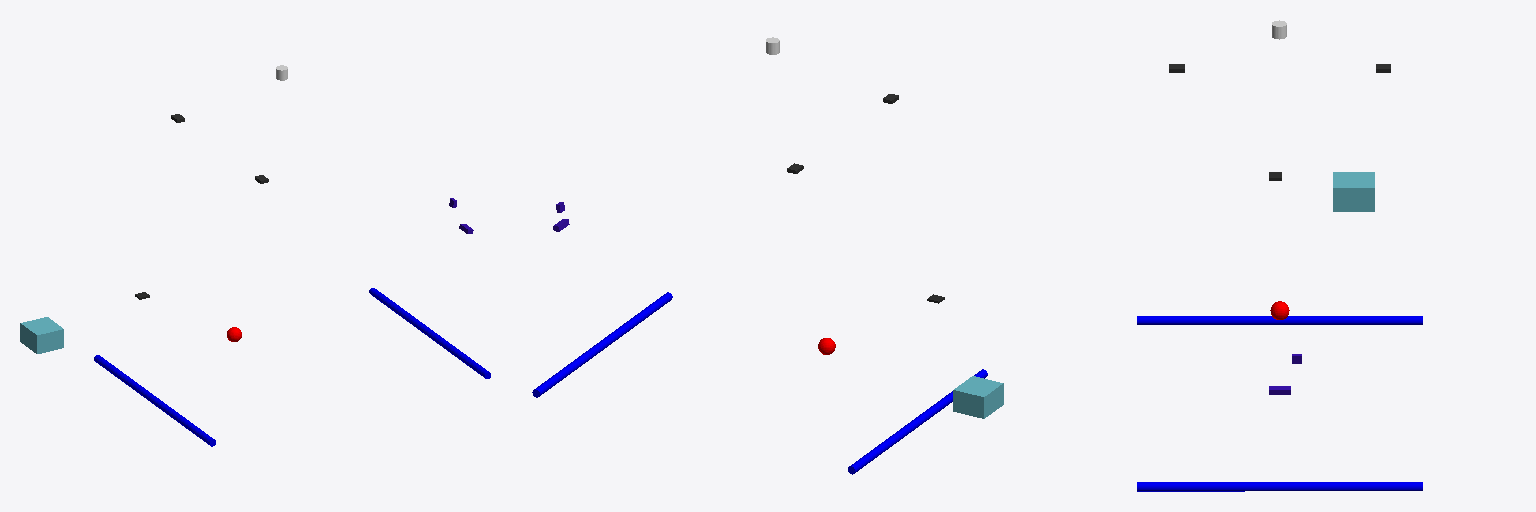
The robot description file, URDF, robot "olav":
<!--=========================================\
|            _  _   _ _      ___   __        |
|           /_\| | | | |    /_\ \ / /        |
|          / _ \ |_| | |__ / _ \ V /         |
|         /_/ \_\___/|____/_/ \_\_/          |
|                                            |
|  OLAV: Off-road light autonomous vehicle  |
\==========================================-->

<robot name="olav">
    <!-- REFERENCES -->
    <!-- BASE -->
    <link name="base_link" />
    <!-- FOOTPRINT -->
    <link name="base_footprint" />
    <!-- "BASE_LINK" TO "CHASSIS_LINK" -->
    <joint name="link_to_footprint_fixed" type="fixed">
        <parent link="base_link" />
        <child link="base_footprint" />
        <origin xyz="+0.00 +0.00 -0.97" rpy="+0.0 +0.0 +0.0" />
    </joint>

    <!-- CHASSIS -->
    <link name="chassis_link">
        <visual>
            <origin xyz="-1.065 +0.000 +0.075" rpy="+0.0 +0.0 +0.0" />
            <geometry>
                <mesh filename="package://olav_description/urdf/meshes/olav_chassis.dae"
                    scale="0.01 0.01 0.01" />
            </geometry>
        </visual>
    </link>
    <!-- "BASE_LINK" TO "CHASSIS_LINK" -->
    <joint name="base_to_chassis_fixed" type="fixed">
        <parent link="base_link" />
        <child link="chassis_link" />
        <origin xyz="+2.1662 +0.0216 -0.7833" rpy="+0.0 +0.0 +0.0" />
    </joint>
    <!-- COG -->
    <link name="cog_link">
        <visual>
            <origin xyz="+0.0 +0.0 +0.0" rpy="+0.0 +0.0 +0.0" />
            <geometry>
                <sphere radius="0.05" />
            </geometry>
            <material name="cog-red">
                <color rgba="1.0 0.0 0.0 1.0" />
            </material>
        </visual>
    </link>
    <!-- "CHASSIS_LINK" TO "COG_LINK" -->
    <joint name="chassis_to_cog_fixed" type="fixed">
        <parent link="chassis_link" />
        <child link="cog_link" />
        <origin xyz="-1.4662 -0.0000 0.3333" rpy="+0.0 +0.0 +0.0" />
    </joint>
    <!-- VEHICLE -->
    <!-- FRONT AXLE -->
    <link name="front_axle_link">
        <visual>
            <origin xyz="+0.0 +0.0 +0.0" rpy="+1.571 +0.000 +0.000" />
            <geometry>
                <cylinder length="1.5" radius="0.025" />
            </geometry>
            <material name="blue">
                <color rgba="0.0 0.0 1.0 1.0" />
            </material>
        </visual>
    </link>
    <!-- "CHASSIS_LINK" TO "FRONT_AXLE_LINK" -->
    <joint name="chassis_to_front_axle_fixed" type="fixed">
        <parent link="chassis_link" />
        <child link="front_axle_link" />
        <origin xyz="+0.0 +0.0 +0.0" rpy="+0.0 +0.0 0.0" />
    </joint>
    <!-- FRONT LEFT WHEEL -->
    <link name="front_left_wheel_link">
        <visual>
            <geometry>
                <mesh filename="package://olav_description/urdf/meshes/olav_wheel_left.dae"
                    scale="0.01 0.01 0.01" />
            </geometry>
        </visual>
    </link>
    <!-- FRONT RIGHT WHEEL -->
    <link name="front_right_wheel_link">
        <!--
        <visual>
            <geometry>
                <mesh filename="package://olav_description/urdf/meshes/olav_wheel_right.dae"
                    scale="0.01 0.01 0.01" />
            </geometry>
        </visual>
        -->
    </link>
    <!-- "FRONT_AXLE_LINK" TO "FRONT_LEFT_WHEEL_LINK" -->
    <joint name="front_axle_to_front_left_wheel_revolute" type="revolute">
        <parent link="front_axle_link" />
        <child link="front_left_wheel_link" />
        <origin xyz="0.0000 +0.6320 -0.0000" rpy="+0.0 +0.0 0.0" />
        <axis xyz="0.0 0.0 1.0" />
        <limit effort="1.0" velocity="+1.0" lower="-0.602" upper="+0.602" />
    </joint>
    <!-- "FRONT_AXLE_LINK" TO "FRONT_RIGHT_WHEEL_LINK" -->
    <joint name="front_axle_to_front_right_wheel_revolute" type="revolute">
        <parent link="front_axle_link" />
        <child link="front_right_wheel_link" />
        <origin xyz="+0.0000 -0.6320 0.0000" rpy="+0.0 +0.0 0.0" />
        <axis xyz="0.0 0.0 1.0" />
        <limit effort="1.0" velocity="+1.0" lower="-0.602" upper="+0.602" />
    </joint>
    <!-- REAR AXLE -->
    <link name="rear_axle_link">
        <visual>
            <origin xyz="+0.0 +0.0 +0.0" rpy="+1.571 +0.000 +0.000" />
            <geometry>
                <cylinder length="1.5" radius="0.025" />
            </geometry>
            <material name="blue">
                <color rgba="0.0 0.0 1.0 1.0" />
            </material>
        </visual>
    </link>
    <!-- "CHASSIS_LINK" TO "REAR_AXLE_LINK" -->
    <joint name="chassis_to_rear_axle_fixed" type="fixed">
        <parent link="chassis_link" />
        <child link="rear_axle_link" />
        <origin xyz="-2.06 +0.00 +0.00" rpy="+0.0 +0.0 +0.0" />
    </joint>
    <!-- REAR LEFT WHEEL -->
    <link name="rear_left_wheel_link">
        <visual>
            <geometry>
                <mesh filename="package://olav_description/urdf/meshes/olav_wheel_left.dae"
                    scale="0.01 0.01 0.01" />
            </geometry>
        </visual>
    </link>
    <!-- REAR RIGHT WHEEL -->
    <link name="rear_right_wheel_link">
        <visual>
            <geometry>
                <mesh filename="package://olav_description/urdf/meshes/olav_wheel_right.dae"
                    scale="0.01 0.01 0.01" />
            </geometry>
        </visual>
    </link>
    <!-- "REAR_AXLE_LINK" TO "REAR_LEFT_WHEEL_LINK" -->
    <joint name="rear_axle_to_wheel_rear_left_fixed" type="fixed">
        <parent link="rear_axle_link" />
        <child link="rear_left_wheel_link" />
        <origin xyz="0.0000 +0.6320 -0.0000" rpy="+0.0 +0.0 0.0" />
    </joint>
    <!-- "REAR_AXLE_LINK" TO "REAR_RIGHT_WHEEL_LINK" -->
    <joint name="rear_axle_to_wheel_rear_right_fixed" type="fixed">
        <parent link="rear_axle_link" />
        <child link="rear_right_wheel_link" />
        <origin xyz="+0.0000 -0.6320 0.0000" rpy="+0.0 +0.0 0.0" />
    </joint>
    <!-- SENSORS -->
    <!-- LORD MICROSTRAIN GQ7 -->
    <link name="gnss_ins_link">
        <visual>
            <origin xyz="+0.0 +0.0 +0.0" rpy="+0.0 +0.0 +0.0" />
            <geometry>
                <box size="0.0760 0.0686 0.0133" />
            </geometry>
            <material name="microstrain-grey">
                <color rgba="0.204 0.204 0.204 1.000" />
            </material>
        </visual>
    </link>
    <!-- UBLOX ANN-MB ANTENNA #1 -->
    <link name="gnss_ins_antenna_1_link">
        <visual>
            <origin xyz="+0.0 +0.0 +0.0" rpy="+0.0 +0.0 +0.0" />
            <geometry>
                <box size="0.0600 0.0820 0.0225" />
            </geometry>
            <material name="ublox-grey">
                <color rgba="0.216 0.216 0.216 1.000" />
            </material>
        </visual>
    </link>
    <!-- UBLOX ANN-MB ANTENNA #2 -->
    <link name="gnss_ins_antenna_2_link">
        <visual>
            <origin xyz="+0.0 +0.0 +0.0" rpy="+0.0 +0.0 +0.0" />
            <geometry>
                <box size="0.0600 0.0820 0.0225" />
            </geometry>
            <material name="ublox-grey">
                <color rgba="0.216 0.216 0.216 1.000" />
            </material>
        </visual>
    </link>
    <!-- "BASE_LINK" TO "GNSS_INS_LINK" -->
    <joint name="base_to_gnss_ins_fixed" type="fixed">
        <parent link="base_link" />
        <child link="gnss_ins_link" />
        <origin xyz="+0.0 +0.0 +0.0" rpy="+0.0 +0.0 +0.0" />
    </joint>
    <!-- "GNSS_INS_LINK" TO "GNSS_INS_ANTENNA_1_LINK" -->
    <joint name="gnss_ins_to_gnss_ins_antenna_1_fixed" type="fixed">
        <parent link="gnss_ins_link" />
        <child link="gnss_ins_antenna_1_link" />
        <origin xyz="+0.5932 +0.5636 +0.9023" rpy="+0.0 +0.0 +0.0" />
    </joint>
    <!-- "GNSS_INS_LINK" TO "GNSS_INS_ANTENNA_2_LINK" -->
    <joint name="gnss_ins_to_gnss_ins_antenna_2_fixed" type="fixed">
        <parent link="gnss_ins_link" />
        <child link="gnss_ins_antenna_2_link" />
        <origin xyz="+0.5932 -0.5174 +0.9023" rpy="+0.0 +0.0 +0.0" />
    </joint>
    <!-- OUSTER OS-1 LIDAR -->
    <link name="lidar_link">
        <visual>
            <origin xyz="+0.0 +0.0 +0.0" rpy="+0.0 +0.0 +0.0" />
            <geometry>
                <cylinder length="0.07300" radius="0.03977" />
            </geometry>
            <material name="ouster-silver">
                <color rgba="0.875 0.875 0.875 1.000" />
            </material>
        </visual>
    </link>
    <!-- "BASE_LINK" TO "LIDAR_LINK" -->
    <joint name="base_to_lidar_fixed" type="fixed">
        <parent link="base_link" />
        <child link="lidar_link" />
        <origin xyz="+1.056209 +0.017649 +1.3393" rpy="+0.000 +0.0 +0.000" />
    </joint>
    <!-- REOLINK CAMERA -->
    <link name="rear_ptz_camera_link">
        <visual>
            <origin xyz="+0.0 +0.0 +0.0" rpy="+0.0 +0.0 +0.0" />
            <geometry>
                <box size="0.201 0.218 0.136" />
            </geometry>
            <material name="reolink-cyan">
                <color rgba="0.427 0.745 0.796 1.000" />
            </material>
        </visual>
    </link>
    <!-- "BASE_LINK" TO "REAR_PTZ_CAMERA_LINK" -->
    <joint name="base_to_rear_ptz_camera_fixed" type="fixed">
        <parent link="base_link" />
        <child link="rear_ptz_camera_link" />
        <origin xyz="-0.5138 0.4084 -0.3297" rpy="+0.00 +0.00 +3.14" />
    </joint>
    <!-- OAK-D STEREO CAMERA -->
    <link name="bumper_camera_link">
        <visual>
            <origin xyz="+0.0 +0.0 +0.0" rpy="+0.0 +0.0 +0.0" />
            <geometry>
                <box size="0.0400 0.1110 0.0313" />
            </geometry>
            <material name="luxonis-violet">
                <color rgba="0.235 0.075 0.698 1.000" />
            </material>
        </visual>
    </link>
    <!-- "BASE_LINK" TO "BUMPER_CAMERA_LINK" -->
    <joint name="base_to_bumper_camera_fixed" type="fixed">
        <parent link="base_link" />
        <child link="bumper_camera_link" />
        <origin xyz="+2.4362 +0.0216 -0.0991" rpy="+0.0000 +0.1745 +0.0000" />
    </joint>
    <!-- OAK-1 W MONOCULAR CAMERA -->
    <link name="roof_camera_link">
        <visual>
            <origin xyz="+0.0 +0.0 +0.0" rpy="+0.0 +0.0 +0.0" />
            <geometry>
                <box size="0.025 0.05 0.05" />
            </geometry>
            <material name="luxonis-violet">
                <color rgba="0.235 0.075 0.698 1.000" />
            </material>
        </visual>
    </link>
    <!-- "BASE_LINK" TO "ROOF_CAMERA_LINK" -->
    <joint name="base_to_roof_camera_fixed" type="fixed">
        <parent link="base_link" />
        <child link="roof_camera_link" />
        <origin xyz="+2.3894 +0.1114 +0.0597" rpy="+0.0000 +0.1396 +0.0000" />
    </joint>
</robot>

--- What the picture shows (computed from the rendered views, not written in the file) ---
Views: 3 orthographic renders of the robot side by side, from view 1: azimuth 30°, elevation 25°; view 2: azimuth 150°, elevation 25°; view 3: azimuth 270°, elevation 25°.
Robot: olav — 17 links, 16 joints (2 revolute, 14 fixed); root link base_link; default pose: every joint at zero.
Links seen in each view (by area): view 1: rear_ptz_camera_link, rear_axle_link, front_axle_link; view 2: rear_ptz_camera_link, front_axle_link, rear_axle_link; view 3: front_axle_link, rear_axle_link, rear_ptz_camera_link.
Boxes of the visible links, x1,y1,x2,y2 form: rear_ptz_camera_link: (20, 317, 63, 353); rear_axle_link: (94, 355, 215, 446); front_axle_link: (369, 288, 490, 378); rear_ptz_camera_link: (953, 376, 1003, 418); front_axle_link: (532, 292, 672, 397); rear_axle_link: (848, 369, 987, 474); front_axle_link: (1137, 482, 1422, 491); rear_axle_link: (1137, 316, 1422, 324); rear_ptz_camera_link: (1333, 172, 1374, 211).
Bounding box of the posed robot: 3.07 × 1.5 × 2.18 m (x, y, z).
0 mesh visuals loaded from 3 distinct referenced files (none loaded); not drawn: 4 (file found but could not be loaded).
